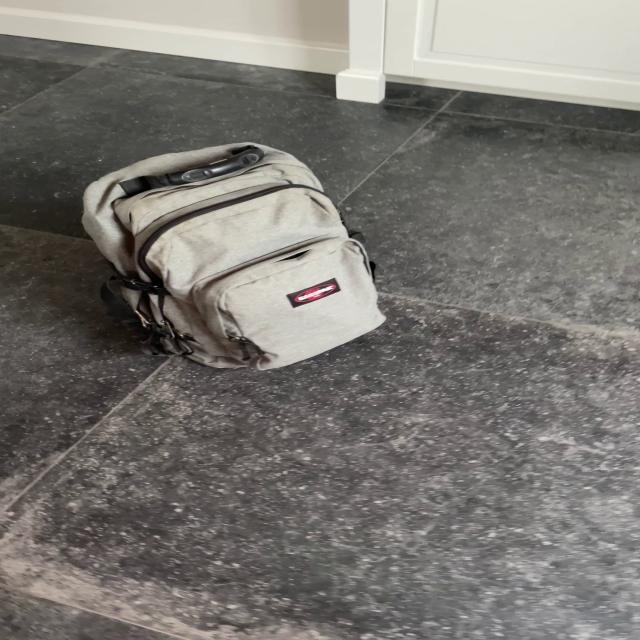backpack: (67, 136, 392, 372)
